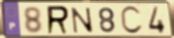4: (148, 6, 167, 35)
8: (22, 5, 45, 35), (98, 7, 117, 34)
C: (119, 5, 145, 36)
N: (69, 7, 95, 34)
R: (46, 5, 71, 36)
